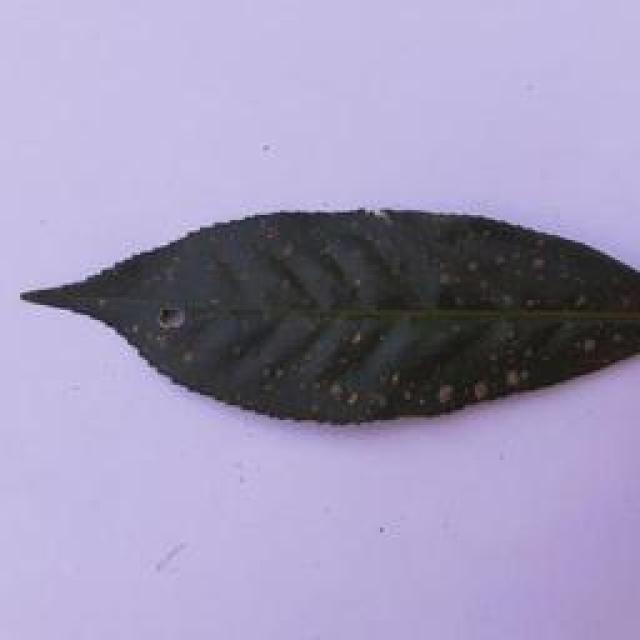Algal Leaf Spot: (18, 182, 640, 436)
